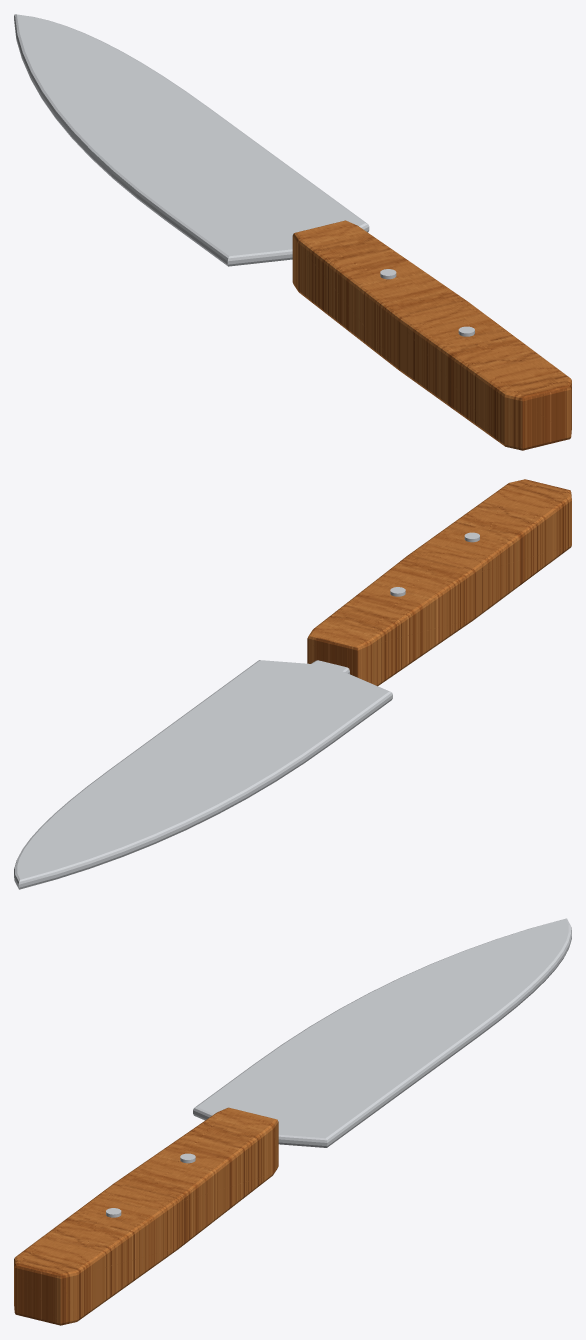
File: CUB-43.glb
3 renders of one model, top to bottom at view 1: azimuth 30°, elevation 25°; view 2: azimuth 150°, elevation 25°; view 3: azimuth 330°, elevation 25°, orthographic. The views are drawn at different scales.
Bounding box in the file's own units: 0.0438 × 0.017 × 0.2922.
4 materials, 1 textured.
